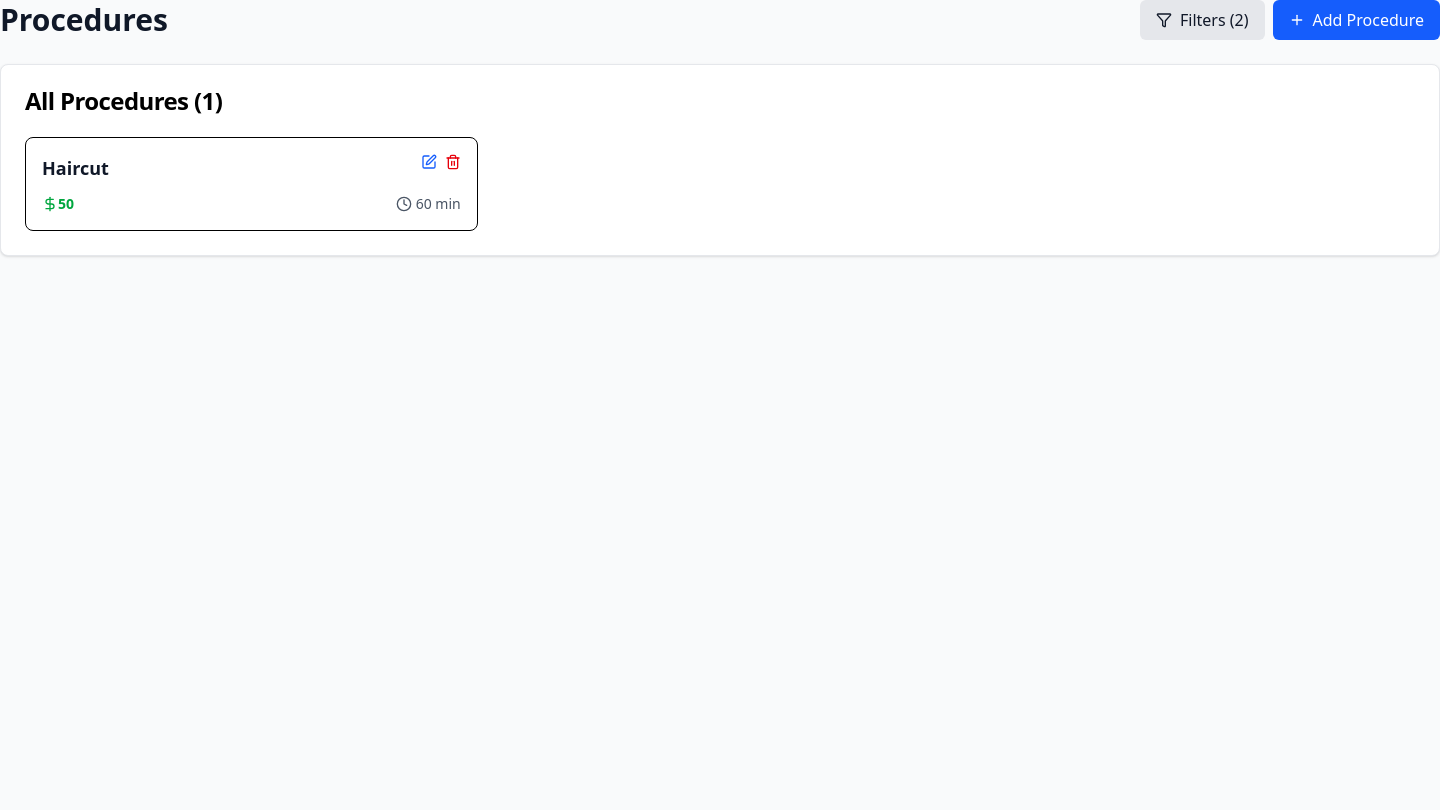
Test case: Procedures Component › opens edit modal with existing procedure data
Expected: the heading "Haircut" is shown, left=42, top=154, right=109, bottom=182
# Click edit button using aria-label
Click the button named "Edit Haircut": (429, 162) left=421, top=154, right=437, bottom=170
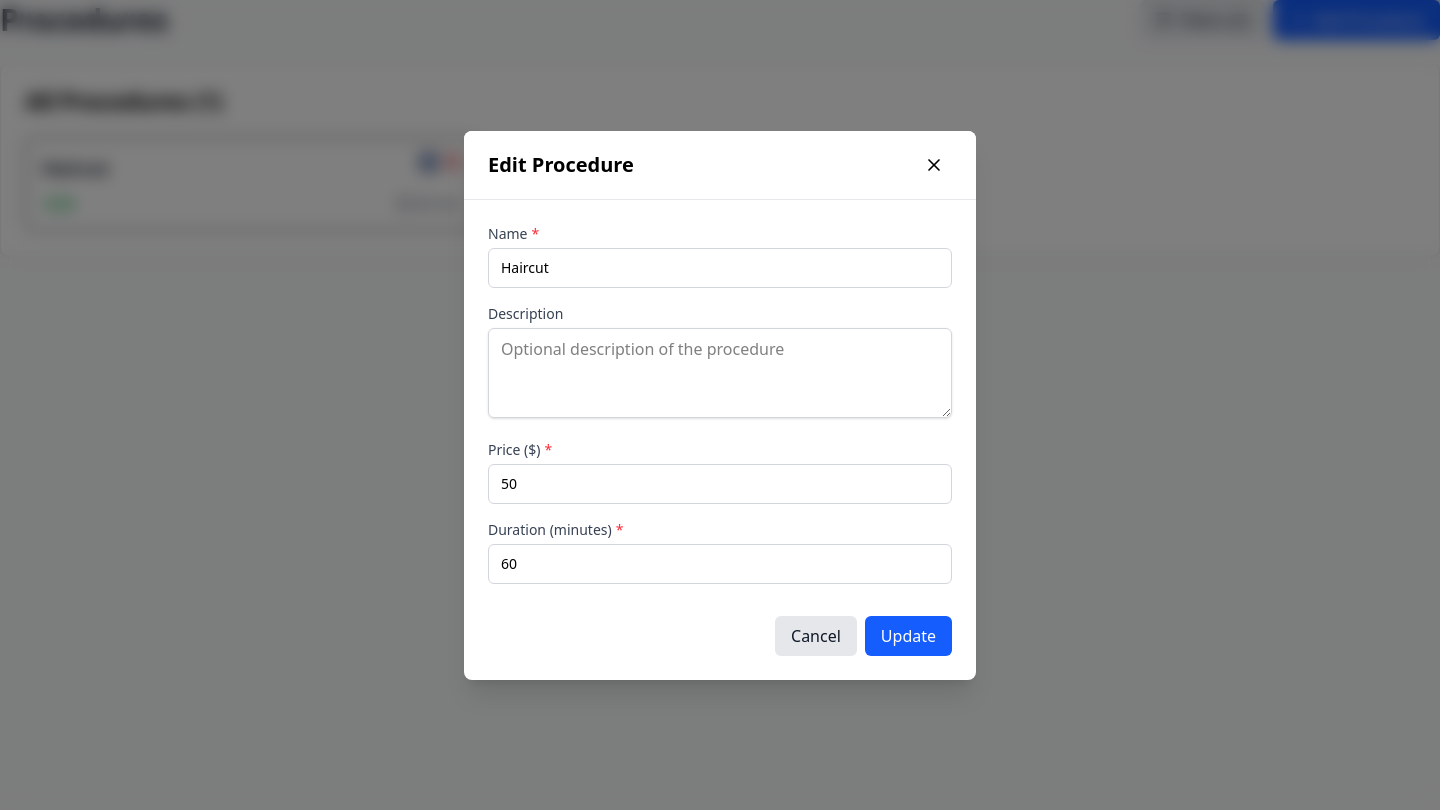
Result: the heading "Edit Procedure" is shown at left=488, top=150, right=634, bottom=178
Result: the field showing "Haircut" is shown at left=488, top=248, right=952, bottom=288
